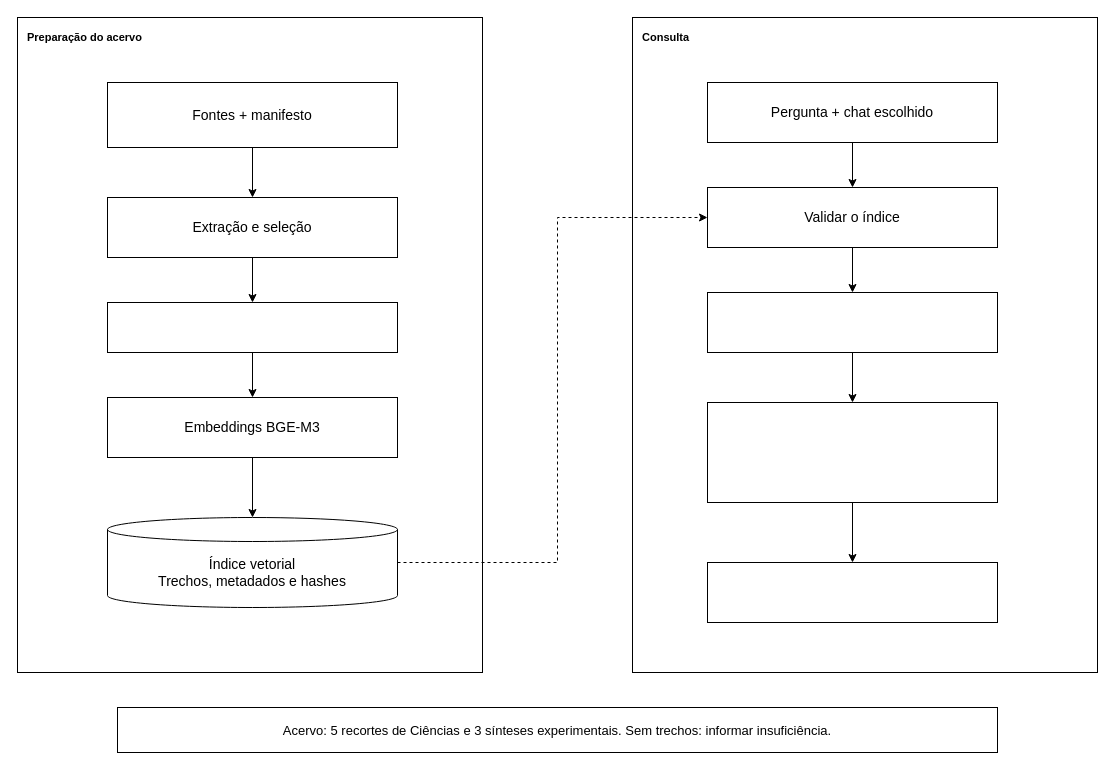
The diagram is 1115 pixels wide and 770 high, and some of its shapes have lost their labels. The shapes that lost their labels are listed below. From the top down, each one's centre as x and y in pixels, then its label:
At pixel 252 327: "Segmentação".
At pixel 852 322: "Embedding da pergunta".
At pixel 852 452: "Comparar vetores e filtrar o chat Até 3 trechos Similaridade mínima: 0,45".
At pixel 852 592: "Contexto ao gerador".
